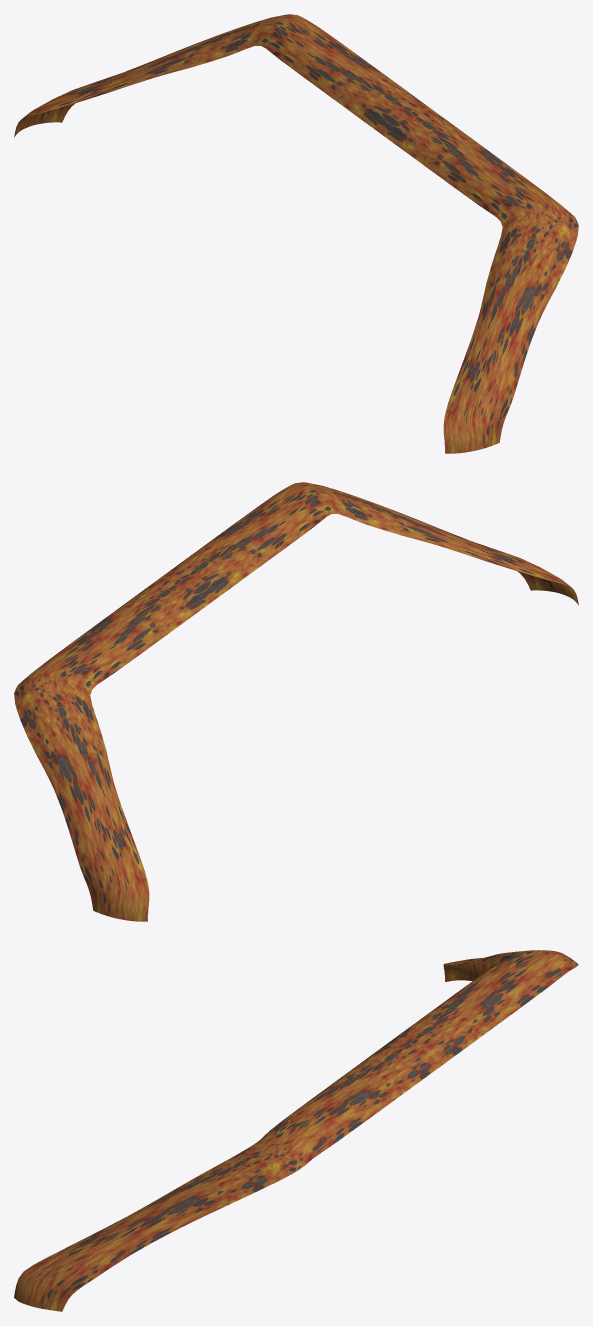
File: WaterFallBig2.fbx
3 renders of one model, top to bottom at view 1: azimuth 30°, elevation 25°; view 2: azimuth 150°, elevation 25°; view 3: azimuth 330°, elevation 25°, orthographic.
Parts seen in each view (by area): view 1: LavaWaterfallBig2; view 2: LavaWaterfallBig2; view 3: LavaWaterfallBig2.
Boxes of the visible parts, x1,y1,x2,y2 form: LavaWaterfallBig2: (14,14,578,453); LavaWaterfallBig2: (14,482,578,921); LavaWaterfallBig2: (14,950,578,1311).
Size of the model in its own units: 22.67 by 14.25 by 81.83.
